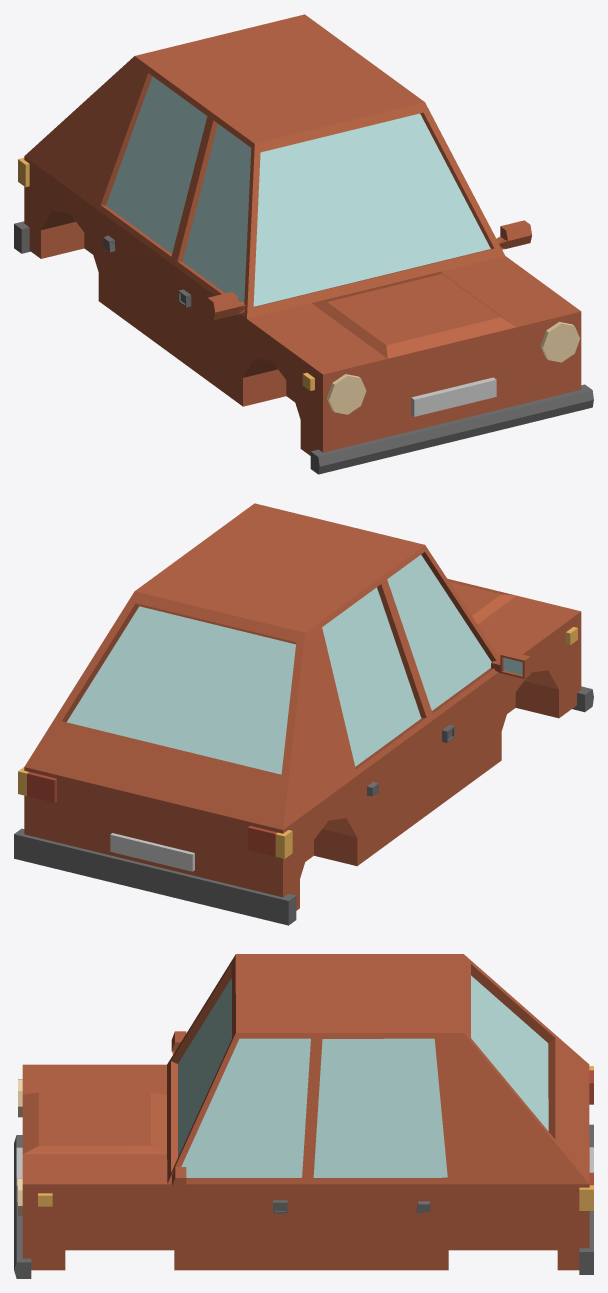
The model's file is Car_04.fbx.
The picture shows the model from 3 angles, top to bottom: view 1: azimuth 30°, elevation 25°; view 2: azimuth 150°, elevation 25°; view 3: azimuth 270°, elevation 25°; orthographic projection. The views are drawn at different scales.
Visible parts, largest first — view 1: Car_04; view 2: Car_04; view 3: Car_04.
Boxes of the visible parts, x1,y1,x2,y2 form: Car_04: (14, 14, 593, 474); Car_04: (14, 503, 593, 925); Car_04: (14, 954, 593, 1278).
Size of the model in its own units: 196 by 138 by 328.
